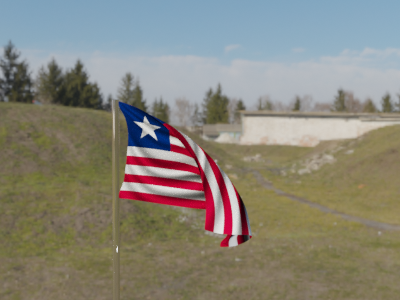Liberia flag: (114, 96, 256, 249)
